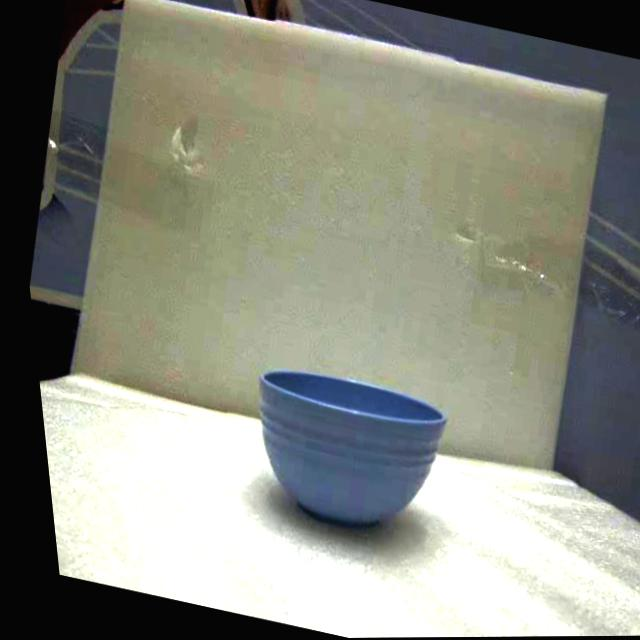Bowl: (260, 372, 445, 527)
